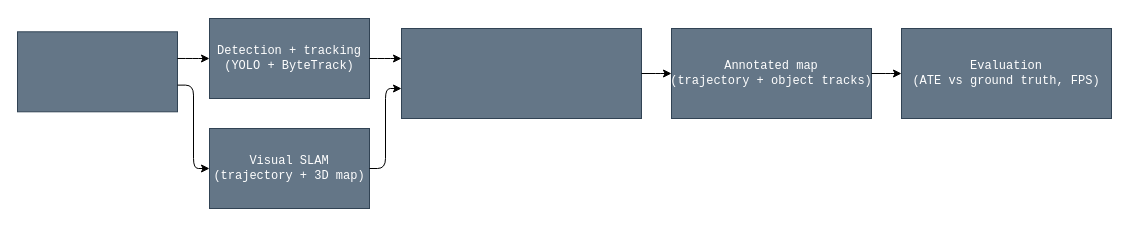
Image size: 1129x226. Some labels were removed from this diagram. The shapes that lost their labels are listed below. From the top down, each one's box as (x1, y1, x2, y2) in pixels, then its label:
(16, 31, 178, 112): TUM RGB-D dataset (RGB + depth frames)
(400, 28, 642, 118): Fusion (project tracks into map frame)
